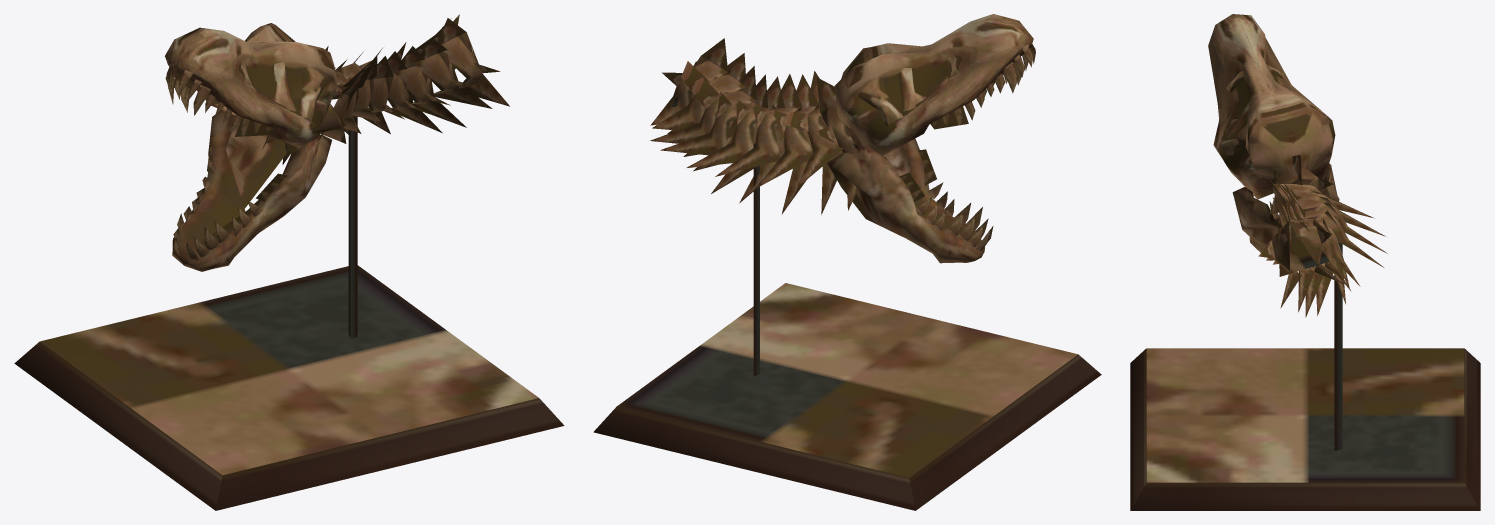
File: int_din_trex_a.dae
3 renders of one model, left to right at view 1: azimuth 30°, elevation 25°; view 2: azimuth 150°, elevation 25°; view 3: azimuth 270°, elevation 25°, orthographic. The views are drawn at different scales.
Parts seen in each view (by area): view 1: int_din_trex_a; view 2: int_din_trex_a; view 3: int_din_trex_a.
Part boxes in pixels (x1,y1,x2,y2): int_din_trex_a: [14, 14, 564, 510]; int_din_trex_a: [593, 14, 1101, 510]; int_din_trex_a: [1130, 14, 1480, 510].
Size of the model in its own units: 64 by 67.8 by 58.6.
1 material, 1 textured.
